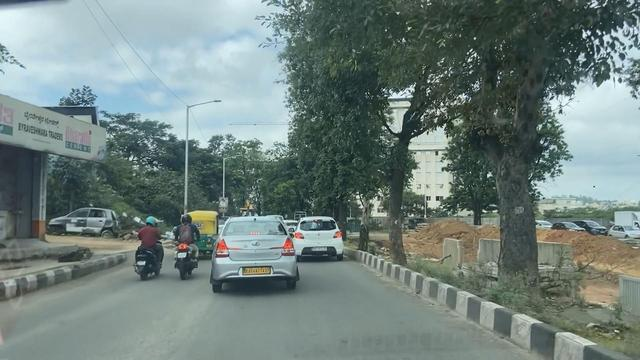LMV: (221, 220, 293, 291), (299, 217, 342, 257), (137, 216, 165, 273), (177, 217, 199, 278)
